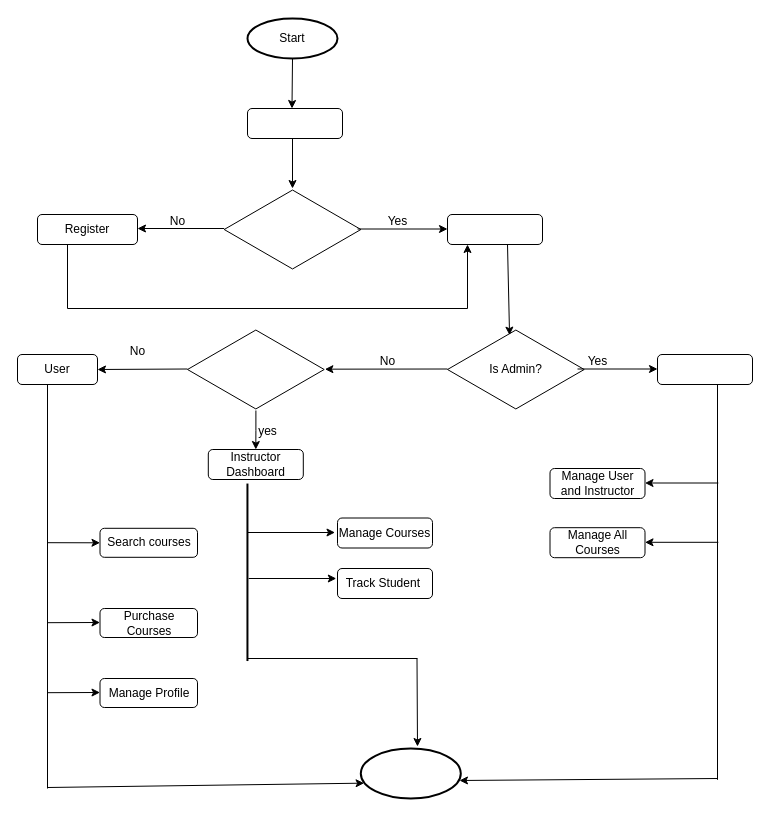
Some shapes in this 770 by 816 pixel diagram are drawn without their labels. The shapes that lost their labels are listed below. From the top down, each one's centre as x and y in pixels, then its label:
pixel 294 123: Login page
pixel 292 229: Have an account?
pixel 494 229: Login
pixel 255 369: Is Instructor?
pixel 704 369: Admin Dashboard
pixel 410 773: Stop
